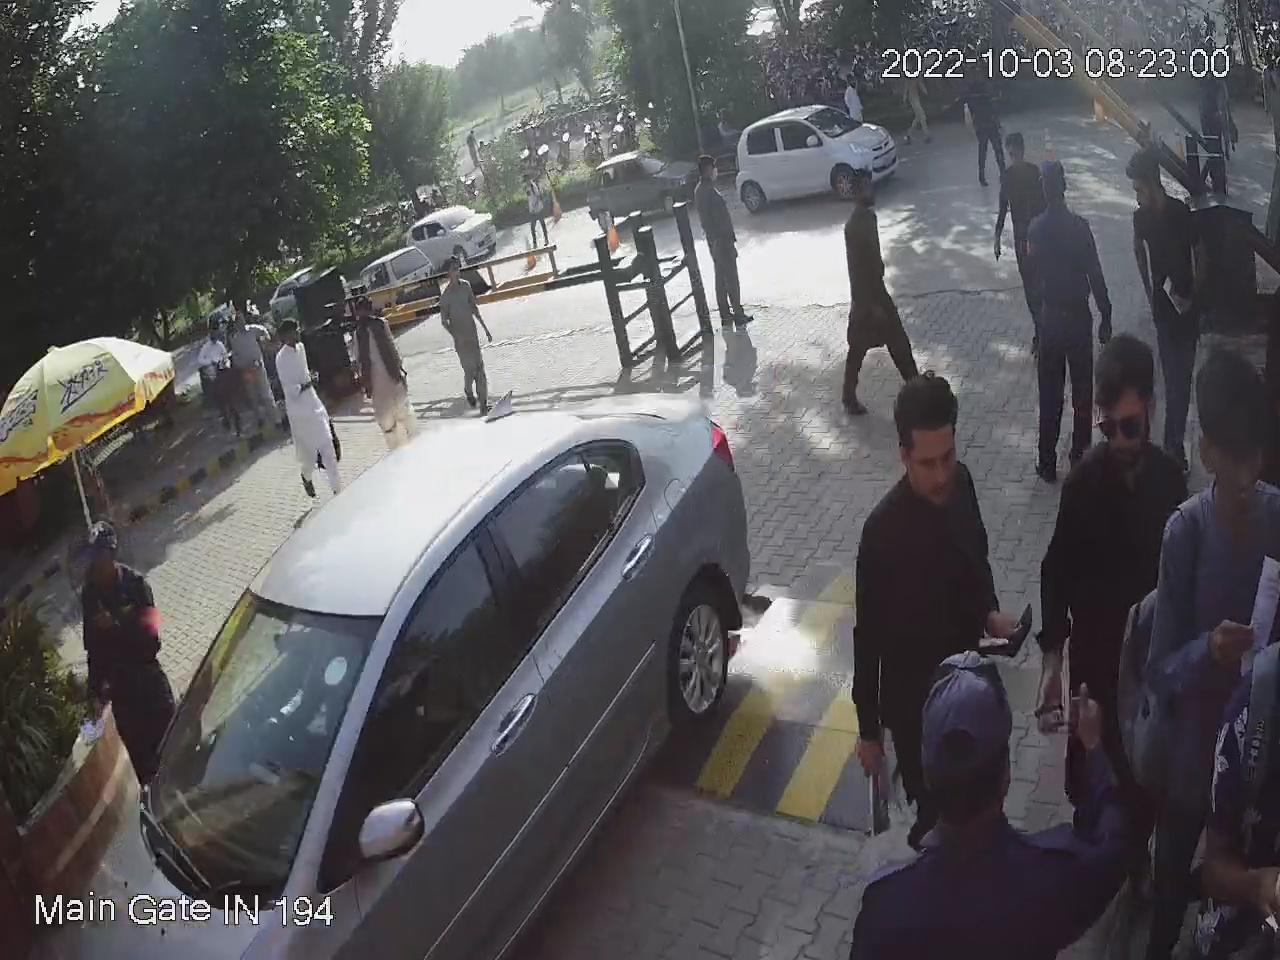windshield: (133, 578, 408, 918)
